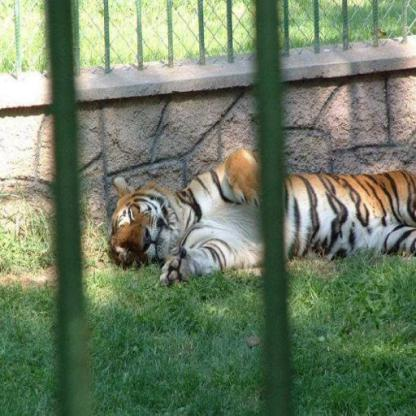Tiger: (101, 143, 416, 284)
